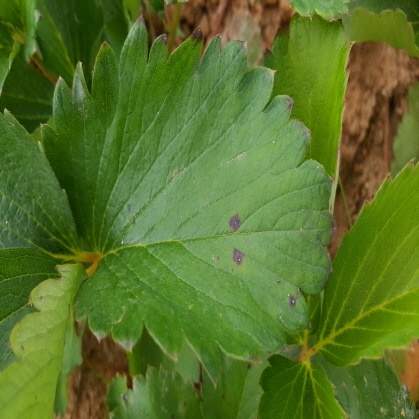Leaf_Spot: (80, 12, 381, 391), (147, 348, 220, 418)
